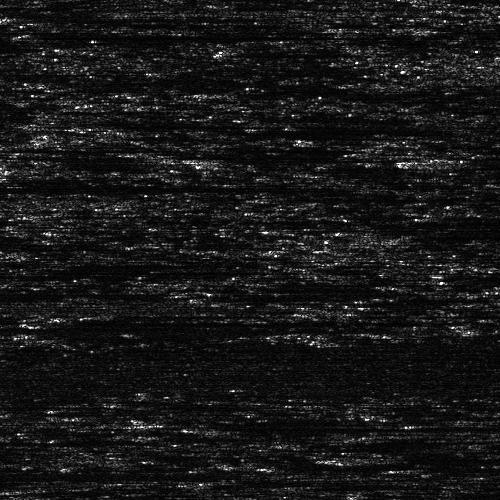object: (304, 454, 409, 465), (380, 156, 473, 167), (158, 423, 241, 434), (168, 154, 241, 163), (190, 49, 253, 56), (0, 13, 35, 24), (406, 212, 437, 221), (379, 466, 432, 471), (281, 483, 334, 488), (227, 195, 280, 198), (483, 308, 500, 315)
shadow: (0, 180, 288, 193), (0, 13, 212, 24), (0, 323, 244, 332), (357, 454, 500, 465), (0, 473, 158, 482), (205, 154, 353, 163), (0, 468, 79, 479), (427, 156, 500, 167), (200, 423, 270, 434), (422, 212, 497, 221), (0, 139, 42, 154), (221, 49, 295, 56), (406, 466, 500, 471), (0, 272, 90, 277), (254, 195, 402, 198), (0, 290, 53, 297), (308, 483, 378, 488), (0, 290, 47, 295), (20, 35, 92, 38)
